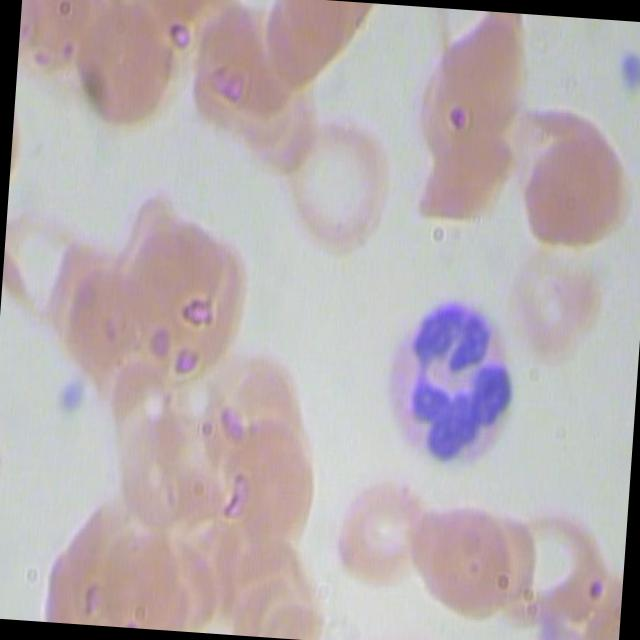Platelets: (51, 370, 89, 414), (612, 44, 640, 103)
RBC: (275, 110, 410, 268), (136, 215, 270, 372), (501, 113, 640, 259), (64, 0, 189, 136), (400, 107, 525, 241), (428, 7, 552, 140), (436, 482, 546, 624), (214, 404, 324, 546), (326, 462, 436, 603), (400, 483, 510, 624), (504, 488, 614, 628), (109, 391, 218, 532), (51, 243, 160, 384), (181, 0, 305, 123), (498, 232, 600, 364), (46, 502, 140, 626)
WBC: (361, 285, 536, 476)
